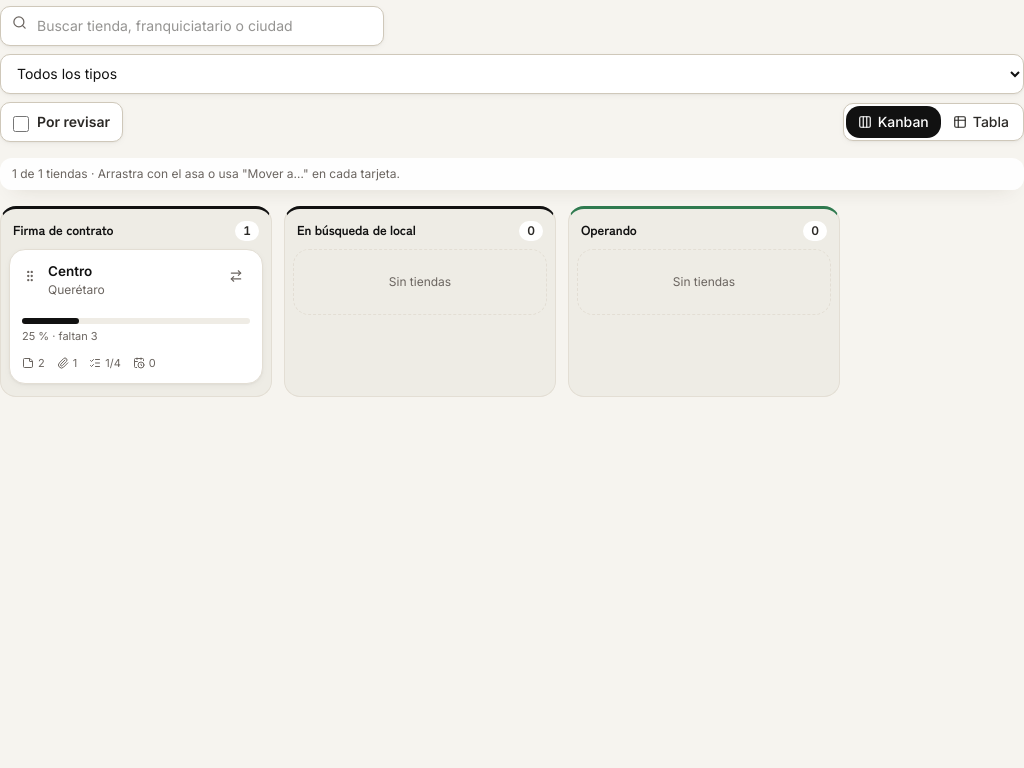
Scenario: si la base rechaza el movimiento, la tarjeta regresa y se muestra el error
The image size is (1024, 768).
Click the button named "Mover Centro a otra etapa": (236, 276) [222,262,250,290]
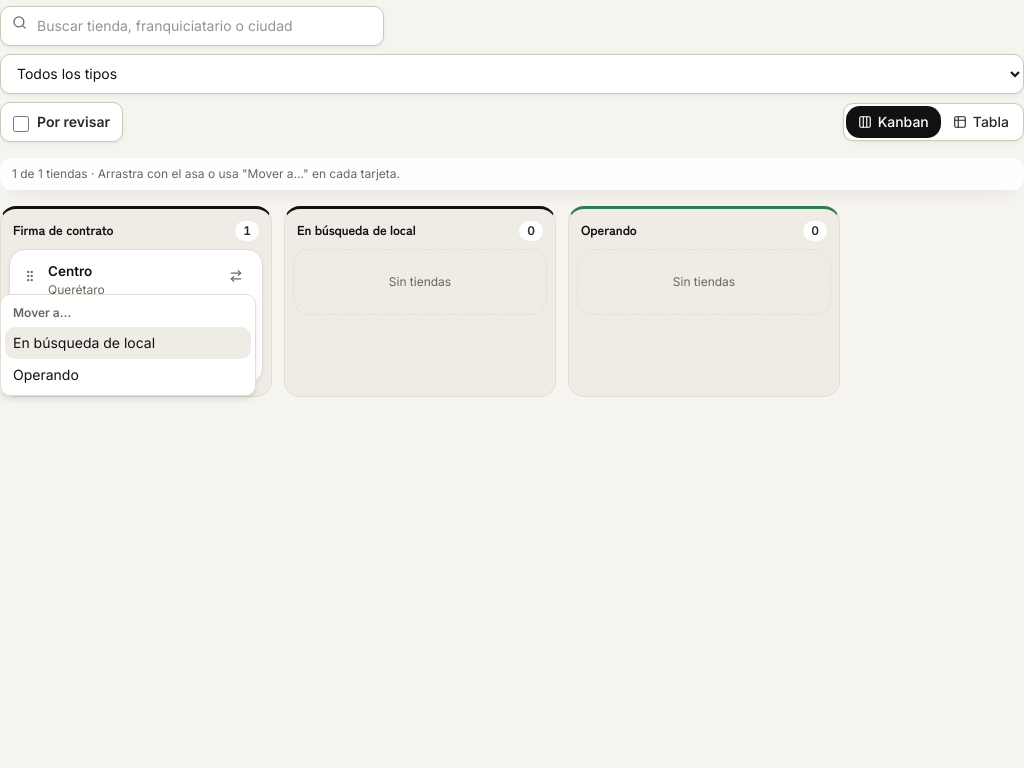
Click the button "Operando": (128, 375) [5,359,251,391]
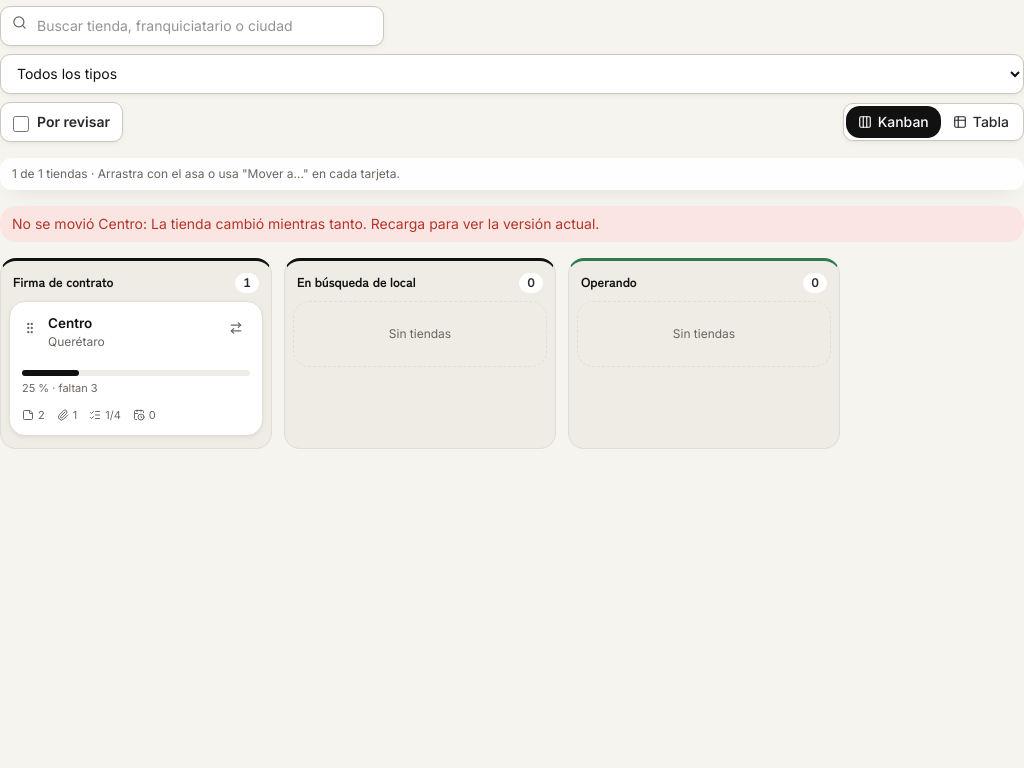
Check: the link "Centro" is shown, box [48,315,92,331]
Check: the text "No se movió Centro: La tienda cambió" is shown, box [12,215,599,232]
